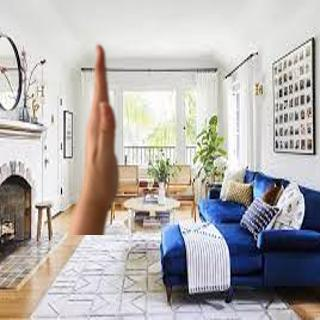Right: (75, 38, 130, 223)
